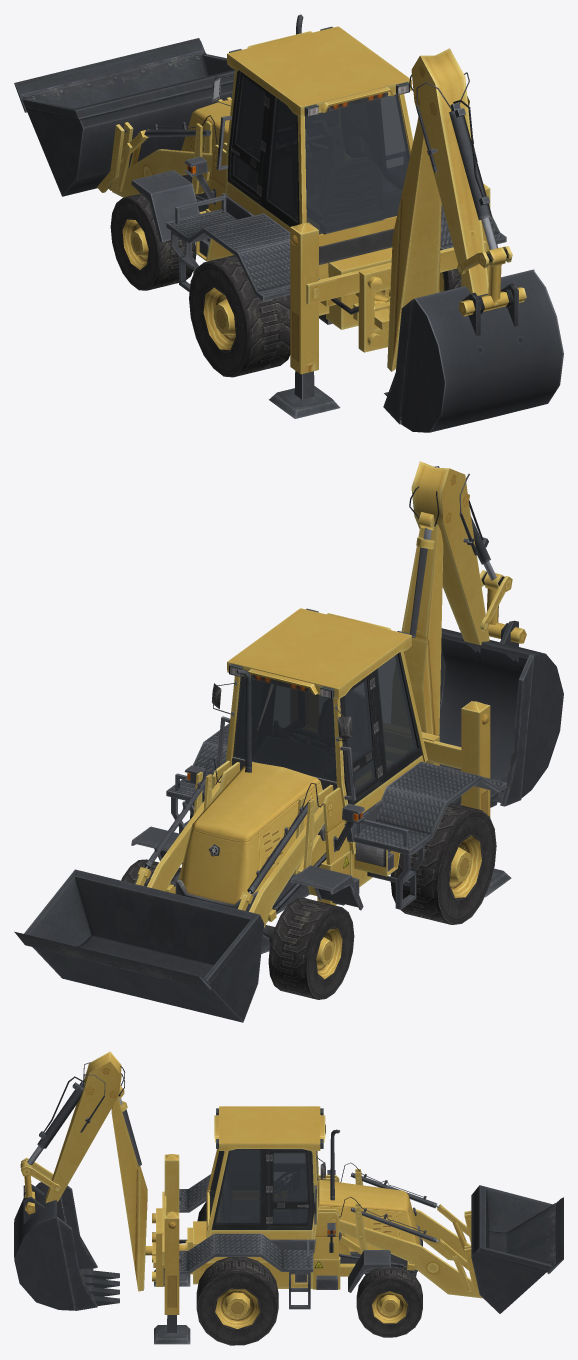
The model's file is Backhoe.glb.
3 views of the same model, one above another, from view 1: azimuth 30°, elevation 25°; view 2: azimuth 150°, elevation 25°; view 3: azimuth 270°, elevation 25° (orthographic). The views are drawn at different scales.
Visible parts, largest first — view 1: Backhoe__LOD4; view 2: Backhoe__LOD4; view 3: Backhoe__LOD4.
Boxes of the visible parts, x1,y1,x2,y2 form: Backhoe__LOD4: (14,14,563,432); Backhoe__LOD4: (14,461,563,1022); Backhoe__LOD4: (14,1051,563,1345).
Size of the model in its own units: 3.32 by 4.64 by 9.21.
Materials: 2 (2 with a texture image).
